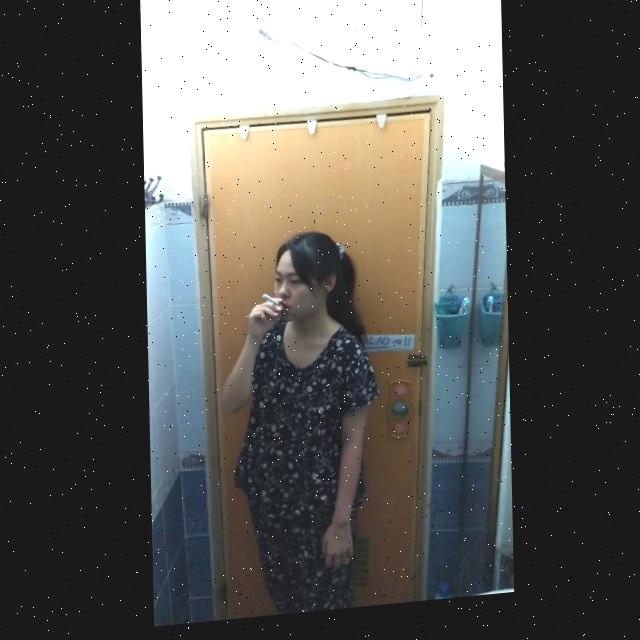cigarette: (261, 298, 283, 316)
